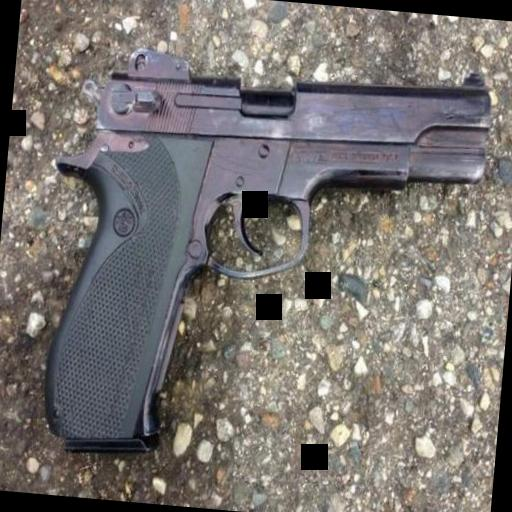Handgun: (24, 25, 498, 488)
